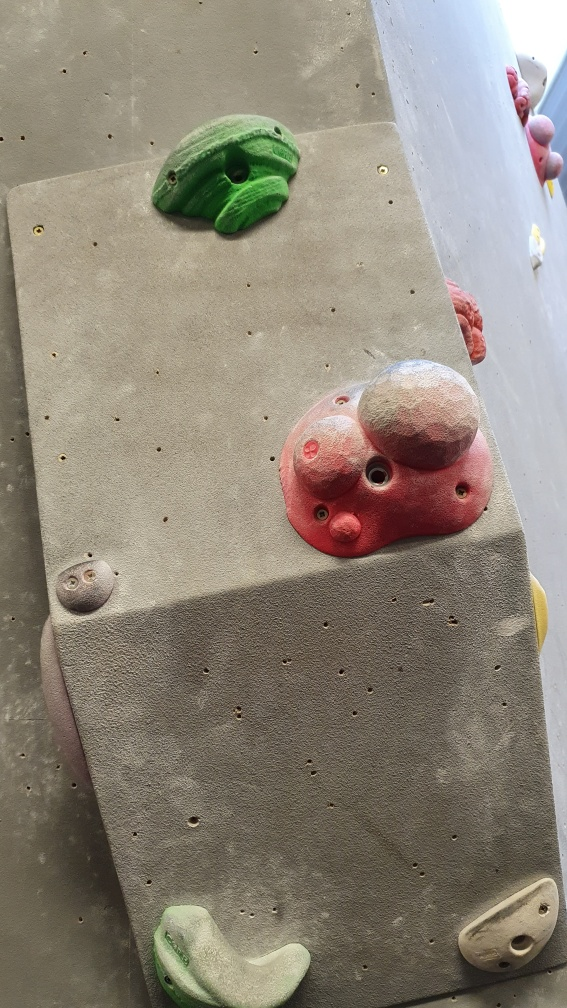Jug: (151, 111, 305, 236), (148, 901, 313, 1008)
Sloper: (279, 353, 497, 565), (522, 109, 567, 189)
